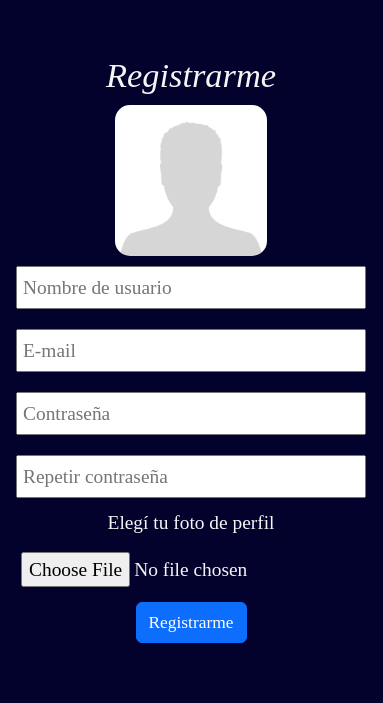
it: Register › registrar sin email muestra error
(page scrolled)
Click the button with test id "register-button": (191, 622) 136,602 -> 246,642
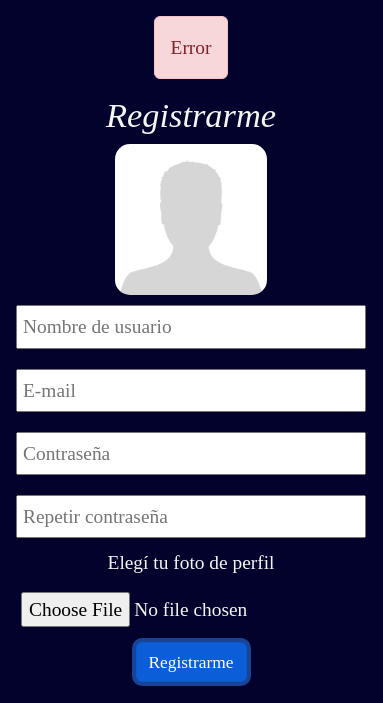
Expected: the message with test id "register-error" reads "Error", 170,37 -> 211,58
